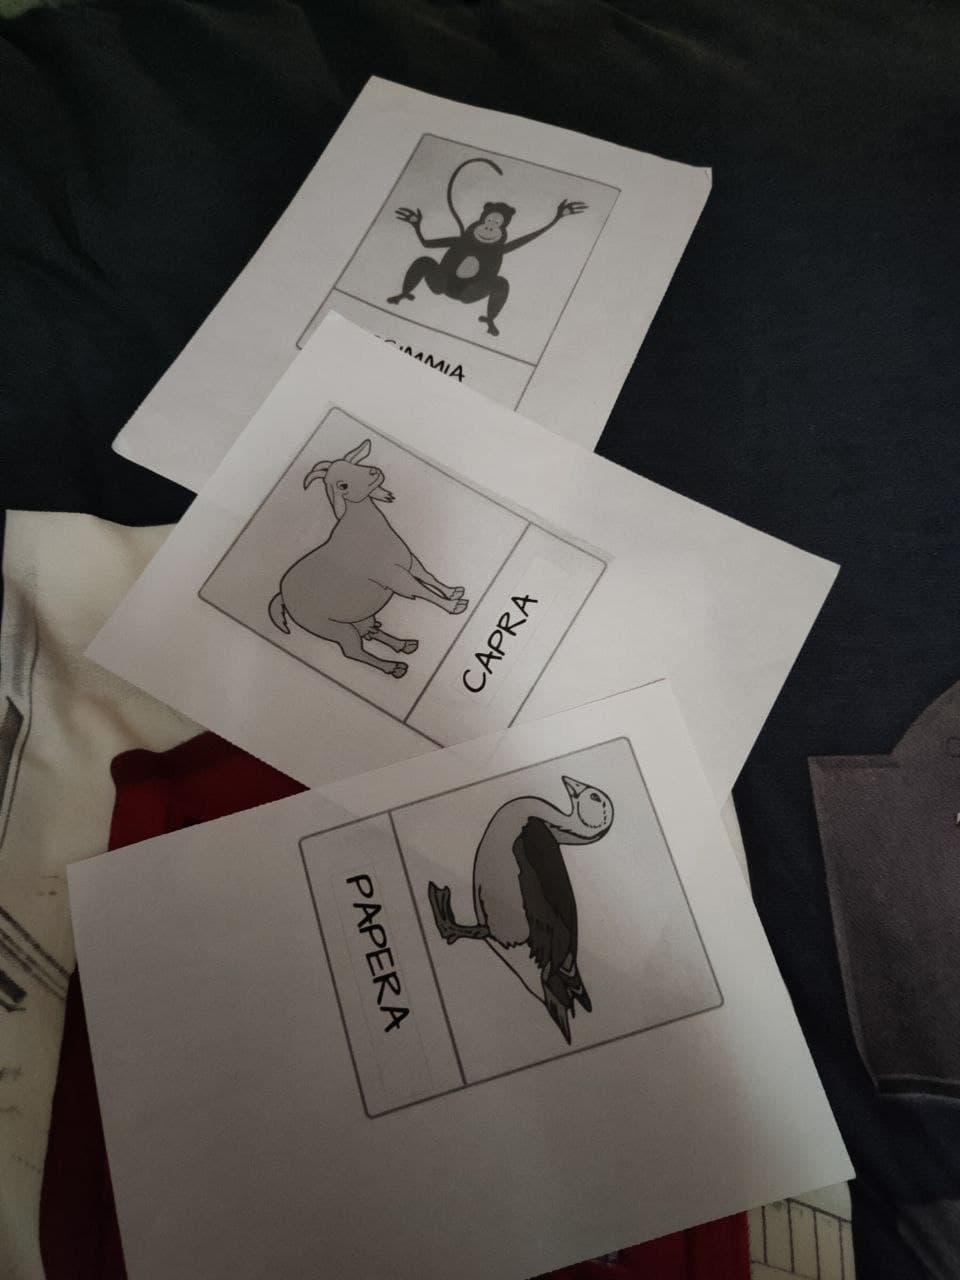capra: (263, 433, 573, 724)
papera: (331, 769, 657, 1067)
scimmia: (372, 152, 591, 389)
